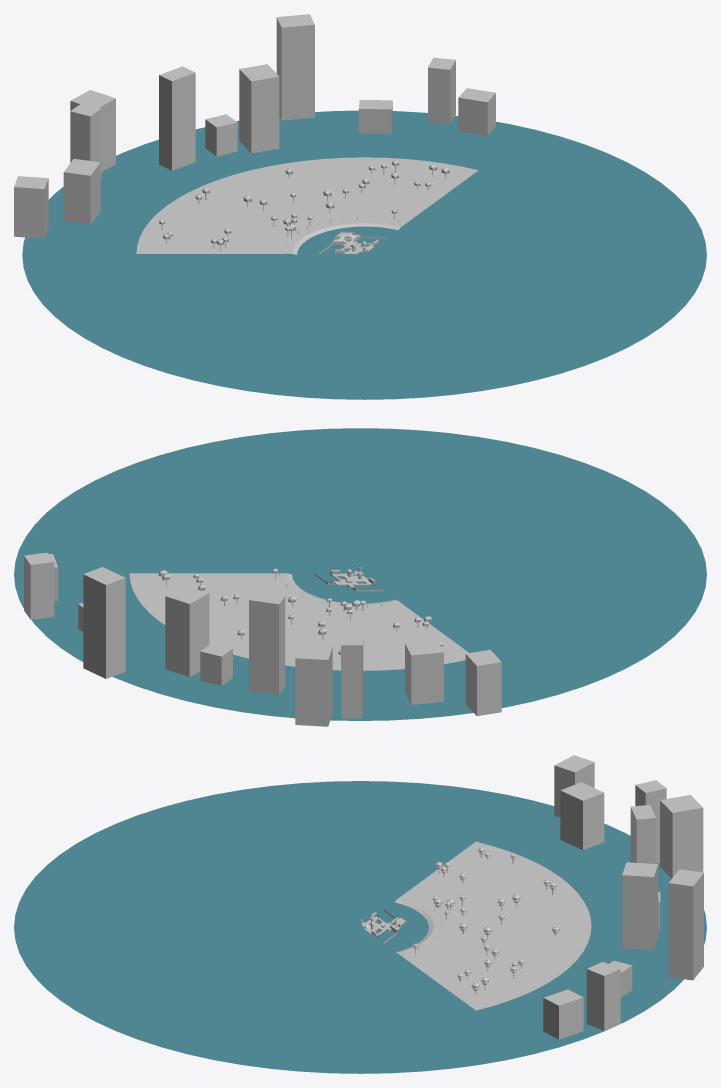
Rendered from Map5Tricolor.fbx.
3 views of the same model, one above another, from view 1: azimuth 30°, elevation 25°; view 2: azimuth 150°, elevation 25°; view 3: azimuth 270°, elevation 25° (orthographic).
Parts seen in each view (by area): view 1: Env_Water, Env_Skyline_A, Env_Shore_A, Env_Trees_A; view 2: Env_Water, Env_Skyline_A, Env_Shore_A, Env_Trees_A; view 3: Env_Water, Env_Skyline_A, Env_Shore_A, Env_Trees_A.
Boxes of the visible parts, x1,y1,x2,y2 form: Env_Water: [22, 110, 706, 399]; Env_Skyline_A: [14, 14, 495, 238]; Env_Shore_A: [136, 157, 478, 254]; Env_Trees_A: [159, 160, 449, 251]; Env_Water: [14, 428, 706, 720]; Env_Skyline_A: [24, 552, 501, 726]; Env_Shore_A: [129, 573, 468, 670]; Env_Trees_A: [158, 568, 443, 654]; Env_Water: [14, 781, 706, 1073]; Env_Skyline_A: [543, 755, 703, 1039]; Env_Shore_A: [395, 841, 591, 1010]; Env_Trees_A: [413, 847, 559, 994].
Bounding box in the file's own units: 9000 × 1468 × 9000.
